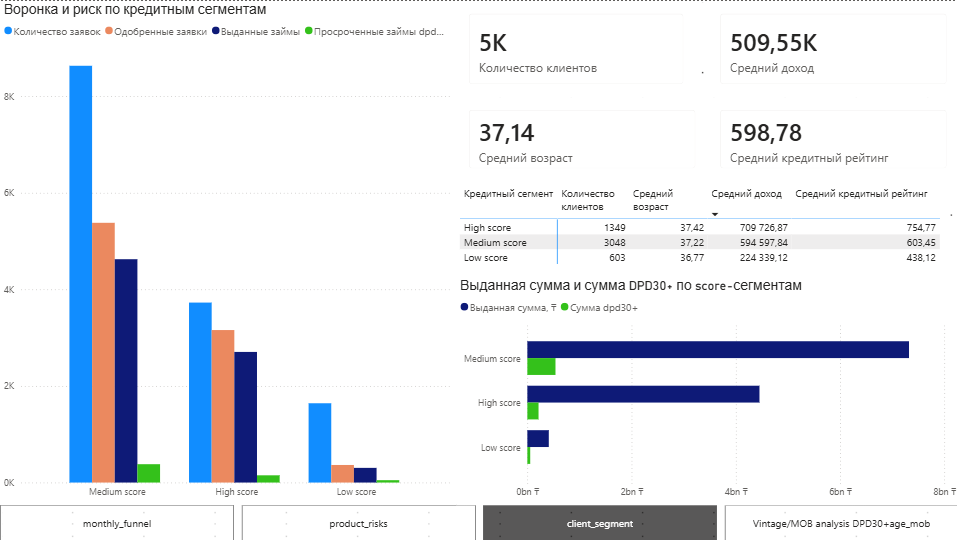

This screenshot's page, from the dashboard's own definition file:
{"tool":"powerbi","page":{"name":"client_segment","canvas":[1280,720],"ordinal":2},"visuals":[{"type":"pageNavigator","box":[0,672,1280,48],"z":0},{"type":"pivotTable","fields":{"Rows":["public bi_client_segments.score_segment"],"Values":["Sum(public bi_client_segments.client_count)","Sum(public bi_client_segments.avg_age)","Sum(public bi_client_segments.avg_income)","Sum(public bi_client_segments.avg_credit_score)"]},"box":[608,240,656,128],"z":1000},{"type":"cardVisual","fields":{"Data":["Avg(public bi_client_segments.avg_age)"]},"box":[608,128,336,112],"z":2000},{"type":"cardVisual","fields":{"Data":["Avg(public bi_client_segments.avg_credit_score)"]},"box":[944,128,336,112],"z":3000},{"type":"cardVisual","fields":{"Data":["Avg(public bi_client_segments.avg_income)"]},"box":[944,0,336,128],"z":4000},{"type":"clusteredColumnChart","title":"Воронка и риск по кредитным сегментам","fields":{"Category":["public bi_client_segments.score_segment"],"Y":["Sum(public bi_client_segments.total_applications)","Sum(public bi_client_segments.approved_applications)","Sum(public bi_client_segments.issued_loans)","Sum(public bi_client_segments.dpd30_loans)"]},"box":[0,0,608,672],"z":5000},{"type":"cardVisual","fields":{"Data":["Sum(public bi_client_segments.client_count)"]},"box":[608,0,320,128],"z":6000},{"type":"clusteredBarChart","title":"Выданная сумма и сумма DPD30+ по score-сегментам","fields":{"Category":["public bi_client_segments.score_segment"],"Y":["Sum(public bi_client_segments.issued_amount)","Sum(public bi_client_segments.dpd30_amount)"]},"box":[608,368,672,304],"z":7000}]}

Visuals, with their boxes on the page's 1280x720 design canvas (x1, y1, x2, y2). These are canvas units, not pixel positions in the 957x540 screenshot, which may show the page scaled, cropped or inside an application window:
pageNavigator: (0, 672, 1280, 720)
pivotTable - public bi_client_segments.score_segment x Sum(public bi_client_segments.client_count): (608, 240, 1264, 368)
cardVisual - Avg(public bi_client_segments.avg_age): (608, 128, 944, 240)
cardVisual - Avg(public bi_client_segments.avg_credit_score): (944, 128, 1280, 240)
cardVisual - Avg(public bi_client_segments.avg_income): (944, 0, 1280, 128)
"Воронка и риск по кредитным сегментам" clusteredColumnChart: (0, 0, 608, 672)
cardVisual - Sum(public bi_client_segments.client_count): (608, 0, 928, 128)
"Выданная сумма и сумма DPD30+ по score-сегментам" clusteredBarChart: (608, 368, 1280, 672)
